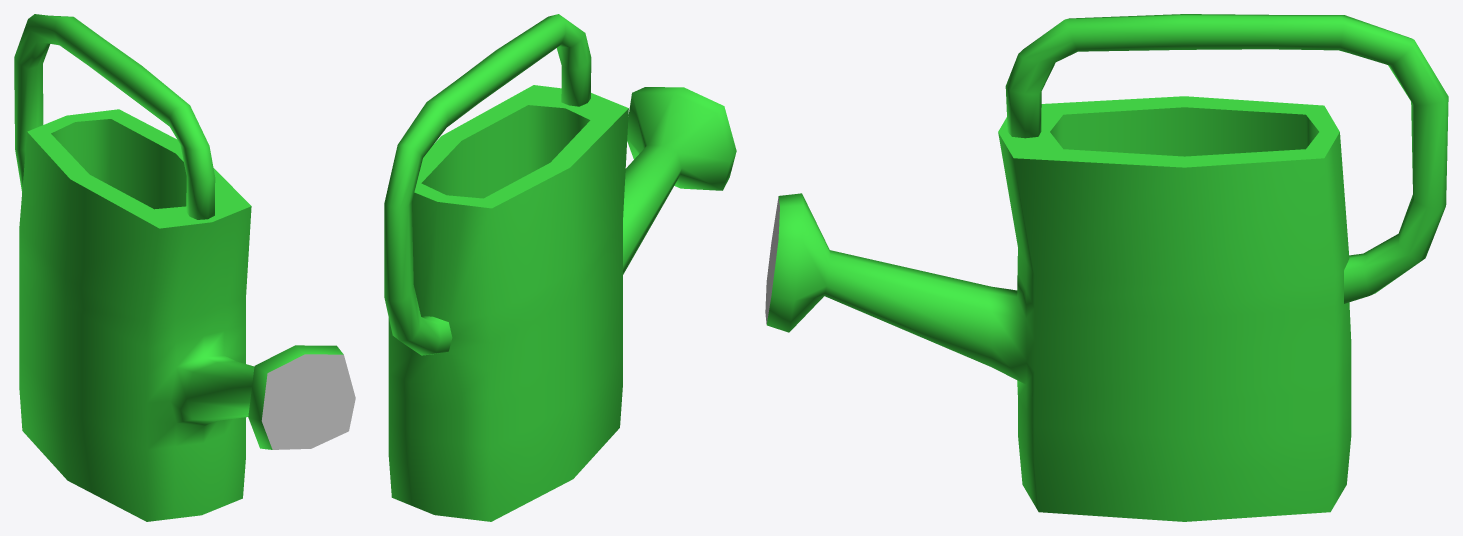
Rendered from VillagerWateringCan.fbx.
3 renders of one model, left to right at view 1: azimuth 30°, elevation 25°; view 2: azimuth 150°, elevation 25°; view 3: azimuth 270°, elevation 25°, orthographic. The views are drawn at different scales.
Visible parts, largest first — view 1: VillagerWateringCan; view 2: VillagerWateringCan; view 3: VillagerWateringCan.
Part boxes in pixels (<box>): VillagerWateringCan: <box>14,14,355,521</box>; VillagerWateringCan: <box>384,14,736,521</box>; VillagerWateringCan: <box>765,14,1448,521</box>.
Size of the model in its own units: 16.82 by 47.95 by 63.35.
